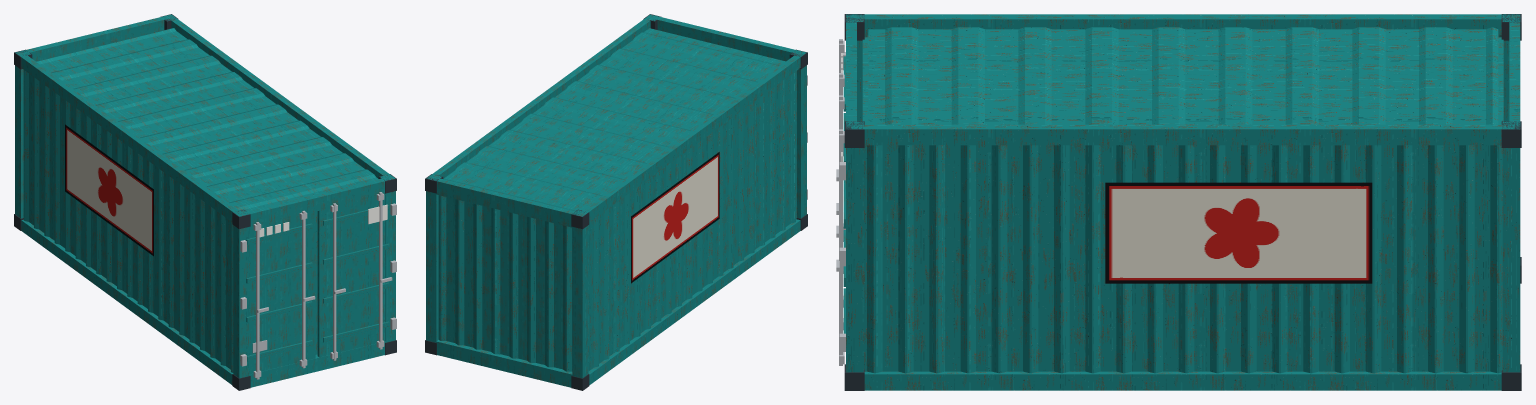
The model's file is container.glb.
3 renders of one model, left to right at view 1: azimuth 30°, elevation 25°; view 2: azimuth 150°, elevation 25°; view 3: azimuth 270°, elevation 25°, orthographic. The views are drawn at different scales.
Visible parts, largest first — view 1: harbor_container; view 2: harbor_container; view 3: harbor_container.
Boxes of the visible parts, x1,y1,x2,y2 form: harbor_container: (14,14,396,390); harbor_container: (425,14,807,390); harbor_container: (836,14,1521,390).
Bounding box in the file's own units: 2.46 × 2.59 × 6.15.
6 materials, 3 textured.
